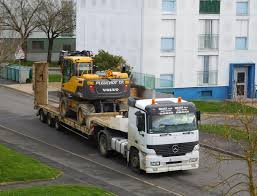excavator: (62, 53, 130, 125)
truck: (28, 74, 204, 177)
